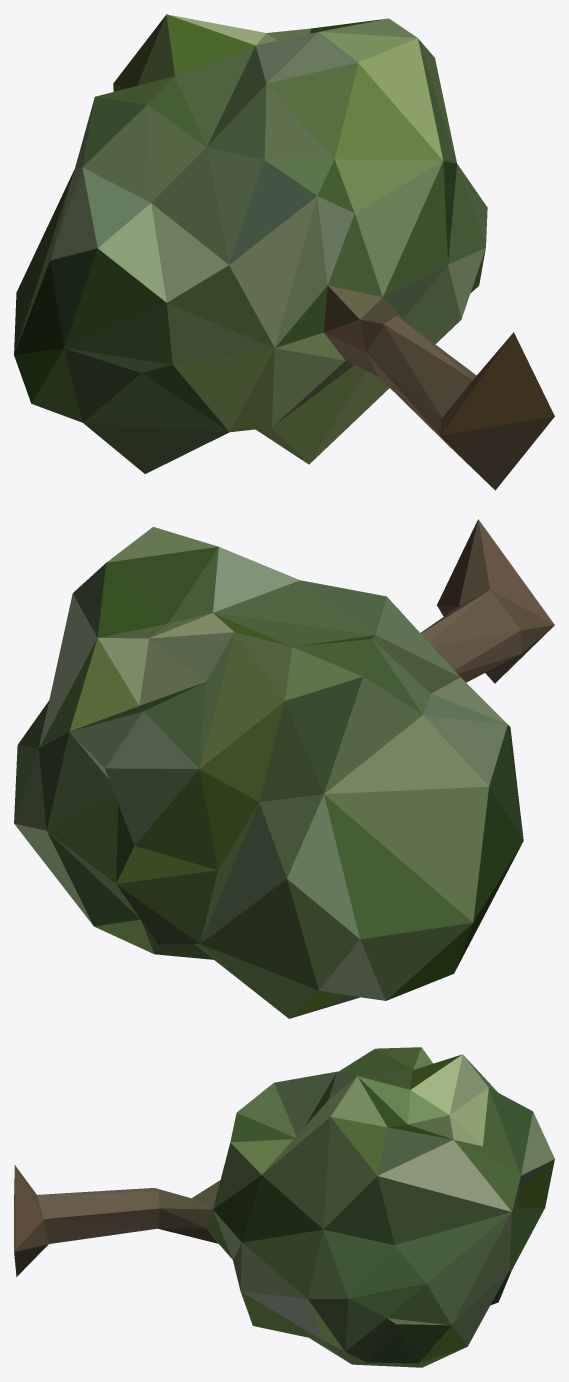
Rendered from Tree_B-DetailB.fbx.
The picture shows the model from 3 angles, top to bottom: view 1: azimuth 30°, elevation 25°; view 2: azimuth 150°, elevation 25°; view 3: azimuth 270°, elevation 25°; orthographic projection. The views are drawn at different scales.
Visible parts, largest first — view 1: Tree_B-DetailB; view 2: Tree_B-DetailB; view 3: Tree_B-DetailB.
Part boxes in pixels (x1,y1,x2,y2): Tree_B-DetailB: (14,14,554,490); Tree_B-DetailB: (14,519,554,1018); Tree_B-DetailB: (14,1047,554,1367).
Size of the model in its own units: 826 by 687 by 1147.
